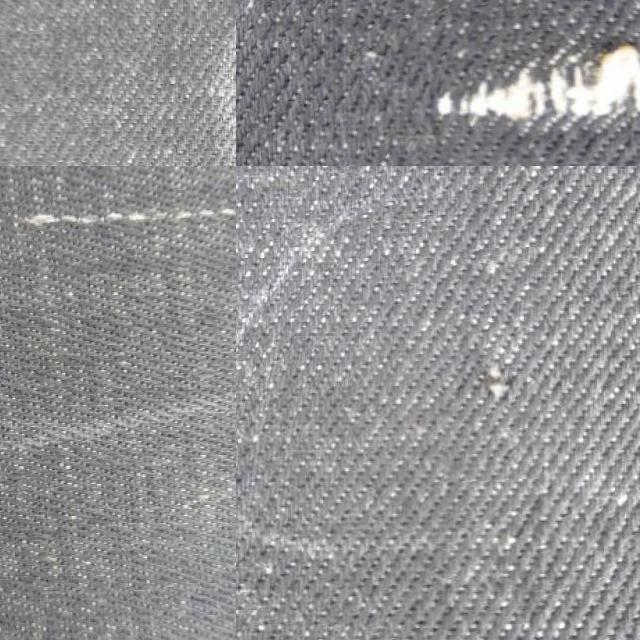stains: (254, 0, 640, 166), (0, 166, 236, 278), (437, 248, 539, 480)
